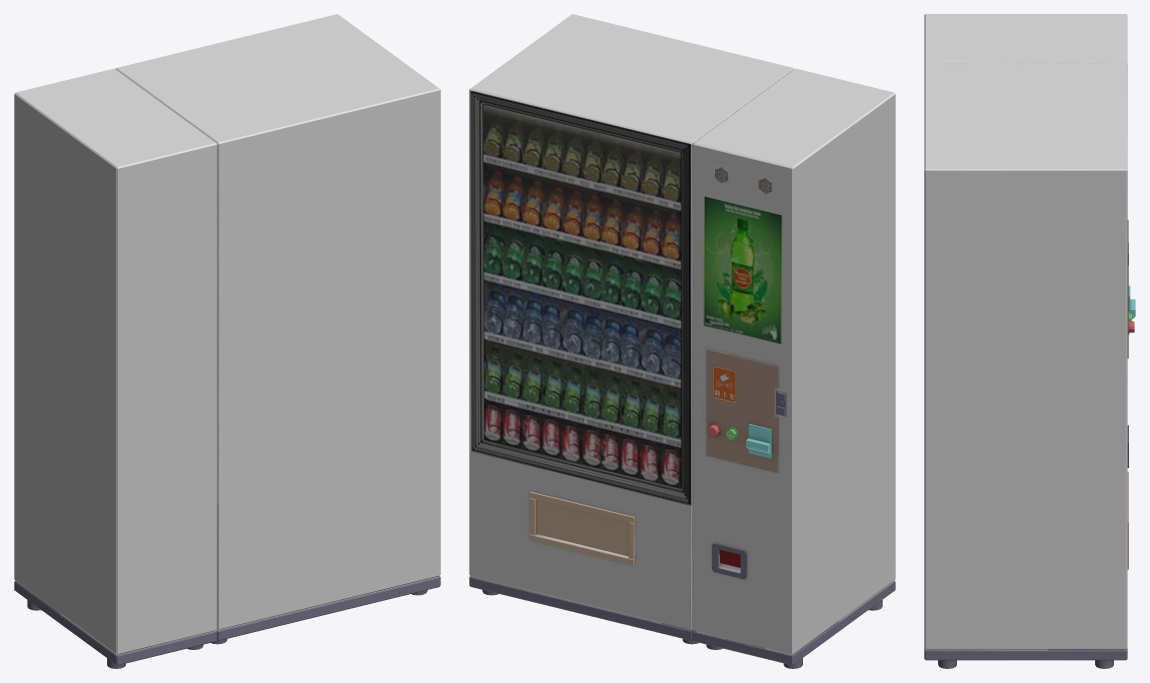
3 renders of one model, left to right at view 1: azimuth 30°, elevation 25°; view 2: azimuth 150°, elevation 25°; view 3: azimuth 270°, elevation 25°, orthographic.
Visible parts, largest first — view 1: 贩卖机; view 2: 贩卖机; view 3: 贩卖机.
Boxes of the visible parts, box(x1,y1,x2,y2) form: 贩卖机: box(14, 14, 440, 668); 贩卖机: box(469, 14, 895, 668); 贩卖机: box(924, 14, 1135, 668).
Bounding box in the file's own units: 1.36 × 2.04 × 0.7799.
1 material, 1 textured.
